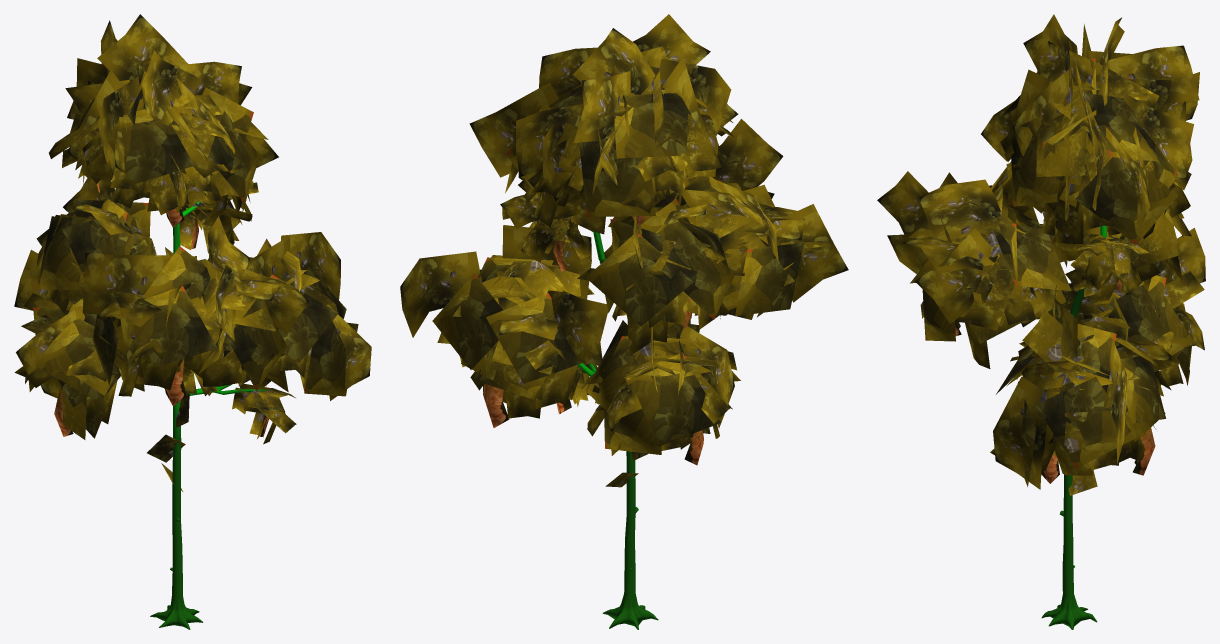
File: hvs_trees_birch02_lod1.fbx
The picture shows the model from 3 angles, left to right: view 1: azimuth 30°, elevation 25°; view 2: azimuth 150°, elevation 25°; view 3: azimuth 270°, elevation 25°; orthographic projection. The views are drawn at different scales.
Parts seen in each view (by area): view 1: hvs_trees_birch02_lod1; view 2: hvs_trees_birch02_lod1; view 3: hvs_trees_birch02_lod1.
Part boxes in pixels (x1,y1,x2,y2): hvs_trees_birch02_lod1: (14, 14, 371, 629); hvs_trees_birch02_lod1: (400, 14, 848, 629); hvs_trees_birch02_lod1: (877, 14, 1205, 629).
Size of the model in its own units: 52.99 by 91.94 by 45.63.
